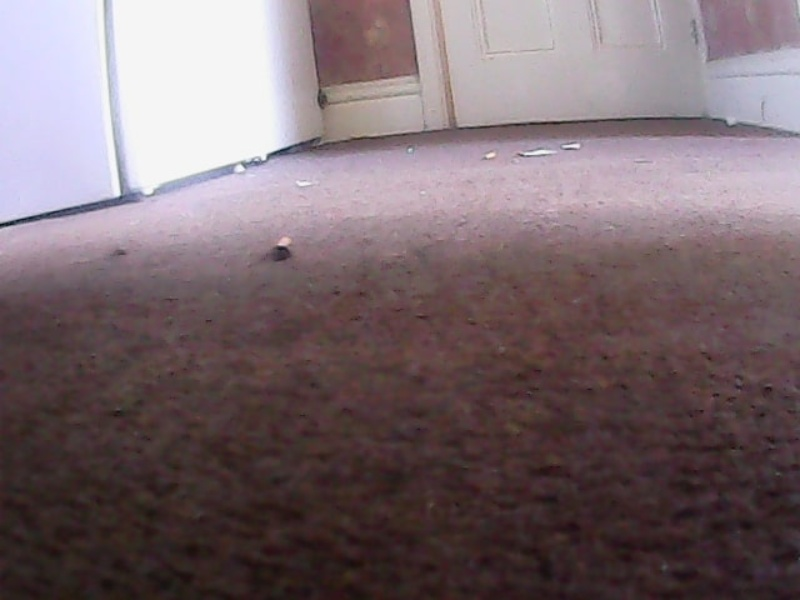cig: (273, 233, 294, 256), (485, 150, 499, 163)
